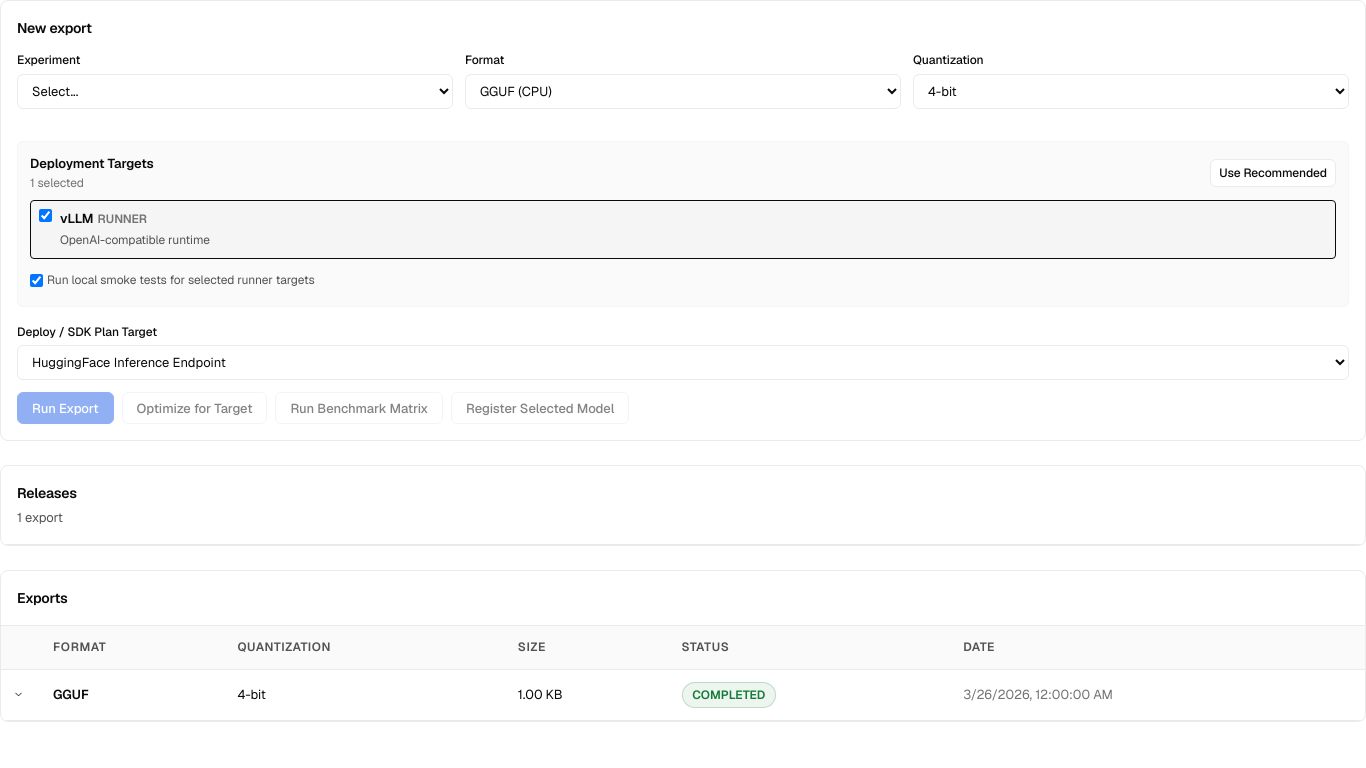
it: ExportPanel serve run flow › shows mobile sdk smoke validation details in deploy plan
The width and height of the screenshot is (1366, 768).
Select "Apple CoreML Stub App" in the dropdown below "Deploy / SDK Plan Target" at (683, 363), box [17,345,1349,380]
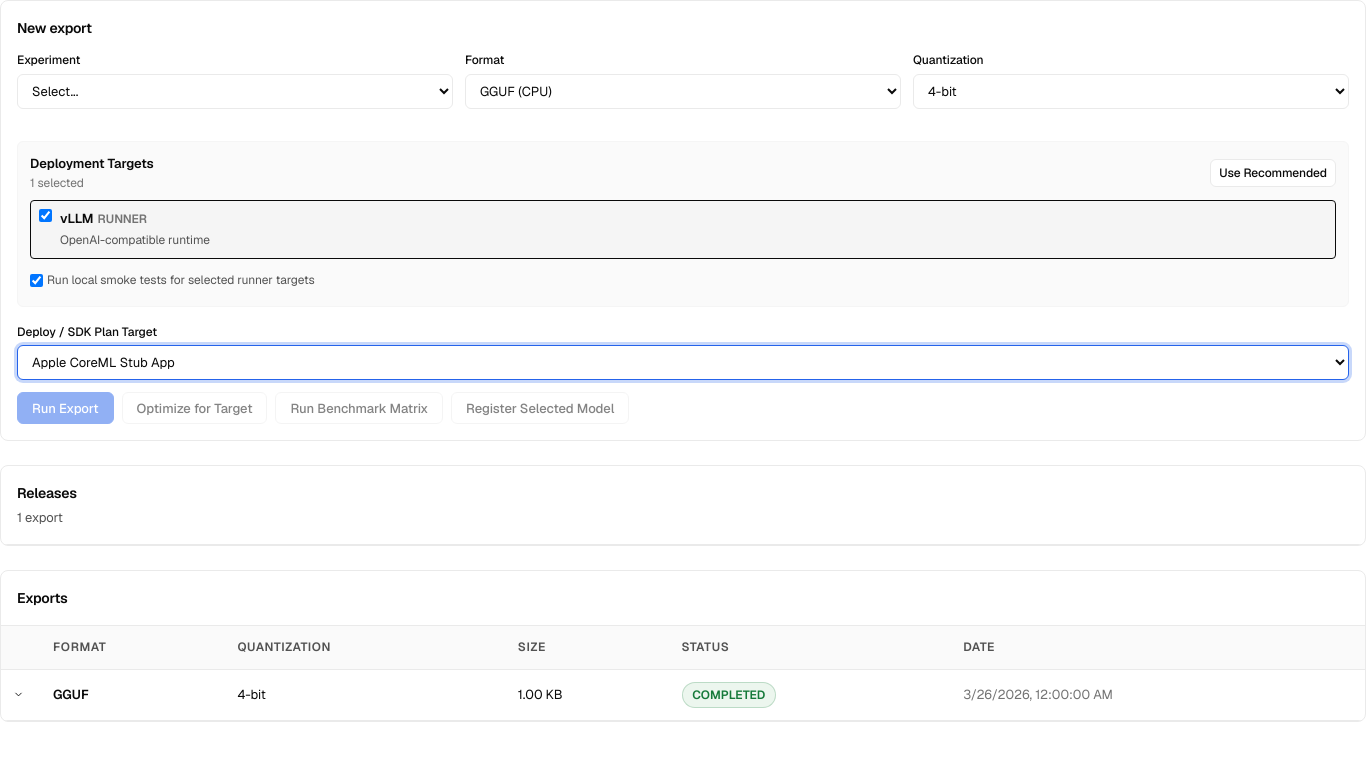
Click the text "GGUF".
click(133, 695)  # box [41,669,225,721]
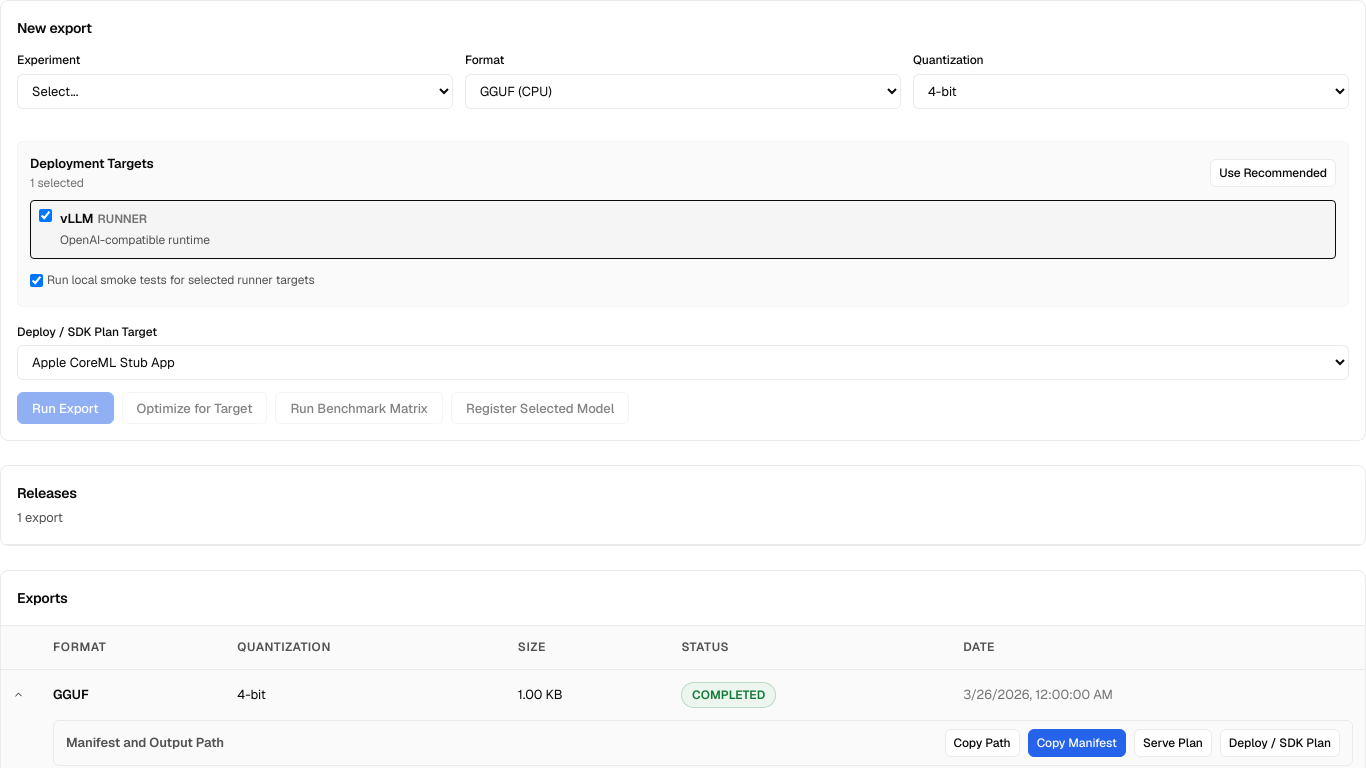
Click the button "Deploy / SDK Plan".
click(1280, 743)  # box [1220,729,1340,757]
(page scrolled)
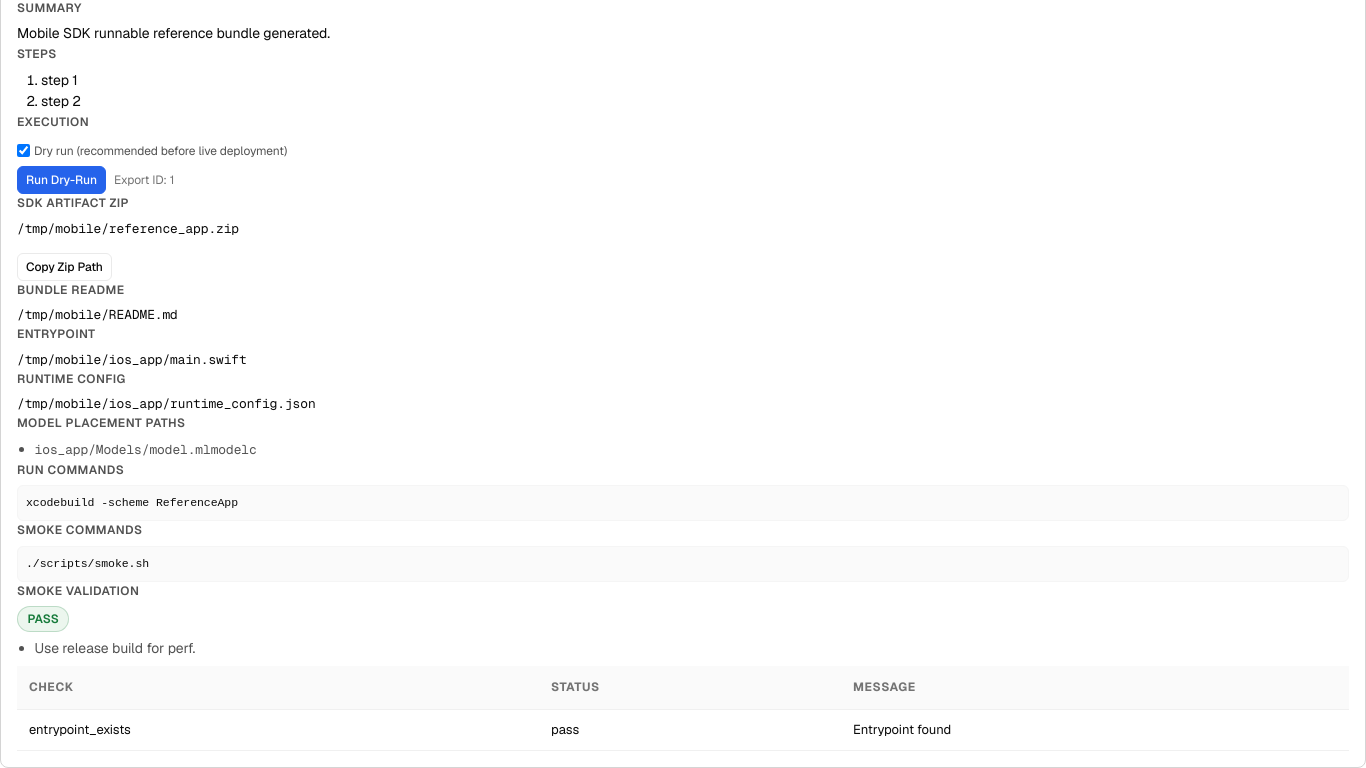
Check: the text "Smoke Validation" is shown, box [17,582,140,598]
Check: the text "PASS" is shown, box [17,606,69,632]
Check: the text "ios_app/Models/model.mlmodelc" is shown, box [35,441,257,458]
